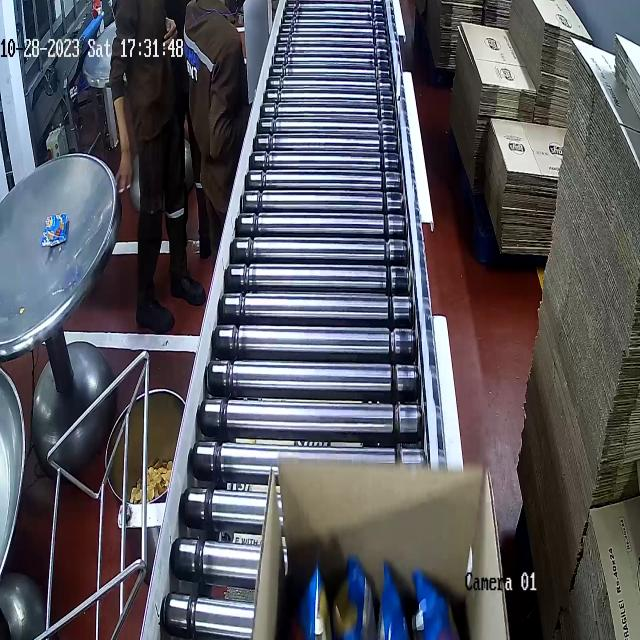PAPRIKA: (297, 557, 478, 640)
